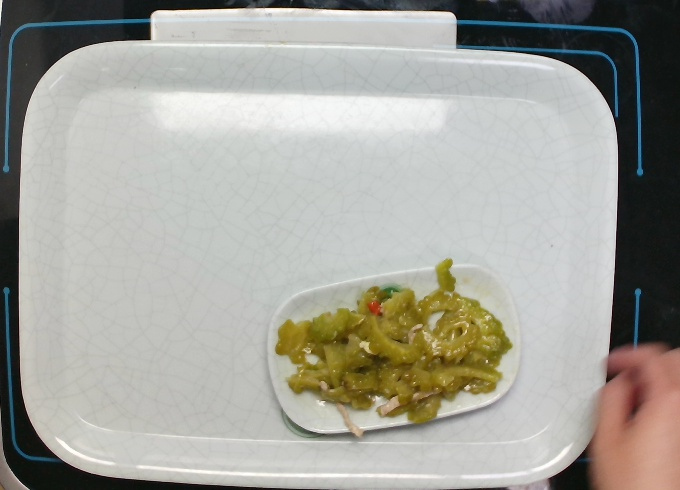WCQzf-Tuo_Yuan_Pan: (268, 251, 531, 443)
